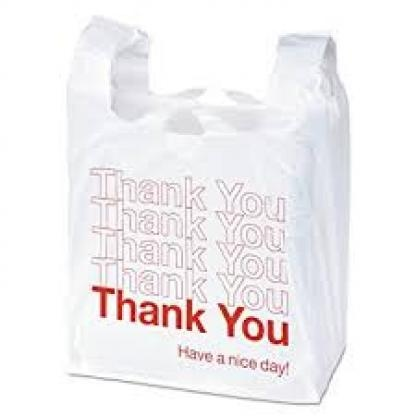trash: (68, 17, 348, 402)
